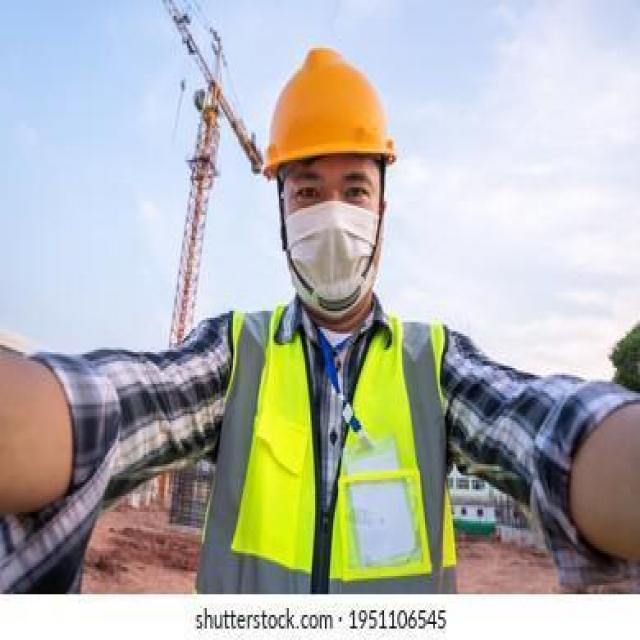hat: (261, 46, 399, 167)
